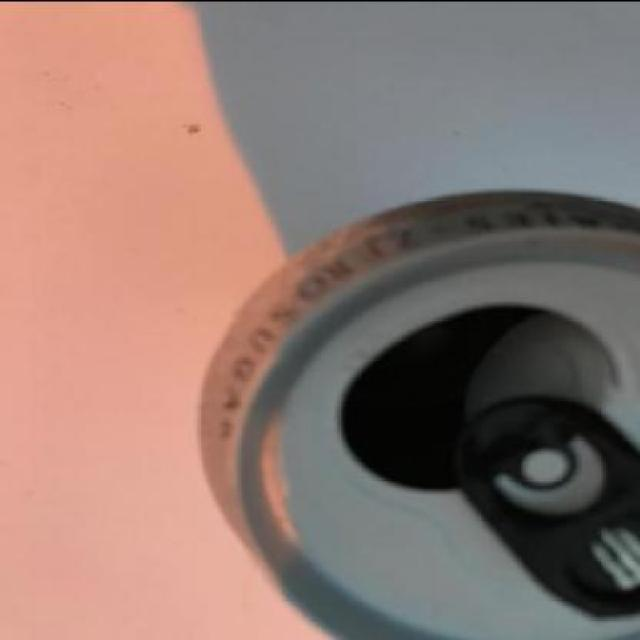METAL: (196, 190, 638, 638)
